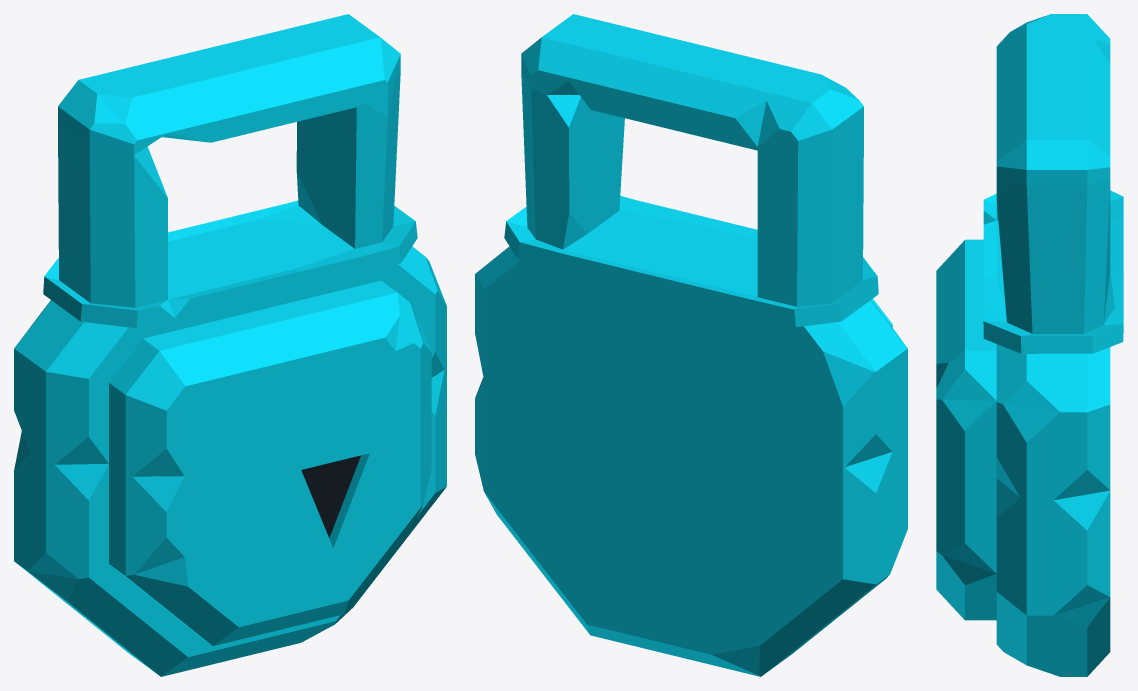
File: blue_lock.glb
The picture shows the model from 3 angles, left to right: view 1: azimuth 30°, elevation 25°; view 2: azimuth 150°, elevation 25°; view 3: azimuth 270°, elevation 25°; orthographic projection. The views are drawn at different scales.
Parts seen in each view (by area): view 1: Circle.019; view 2: Circle.019; view 3: Circle.019.
Part boxes in pixels (x1,y1,x2,y2): Circle.019: [14, 14, 446, 676]; Circle.019: [475, 14, 907, 676]; Circle.019: [936, 14, 1123, 676].
Bounding box in the file's own units: 2 × 2.79 × 0.8475.
1 material, 1 textured.
